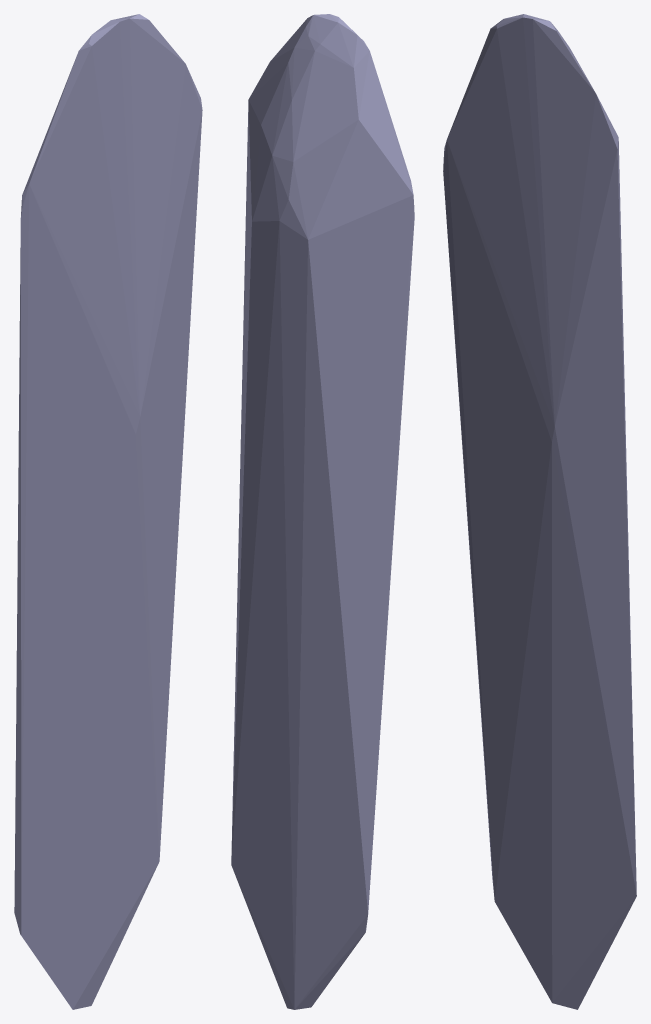
Rendered from kitchenware_spoon_h01.glb.
The picture shows the model from 3 angles, left to right: view 1: azimuth 30°, elevation 25°; view 2: azimuth 150°, elevation 25°; view 3: azimuth 330°, elevation 25°; orthographic projection. The views are drawn at different scales.
Parts seen in each view (by area): view 1: geometry_0; view 2: geometry_0; view 3: geometry_0.
Boxes of the visible parts, x1,y1,x2,y2 form: geometry_0: (14, 14, 202, 1009); geometry_0: (231, 14, 414, 1009); geometry_0: (443, 14, 636, 1009).
Bounding box in the file's own units: 0.0872 × 0.4773 × 0.0359.
